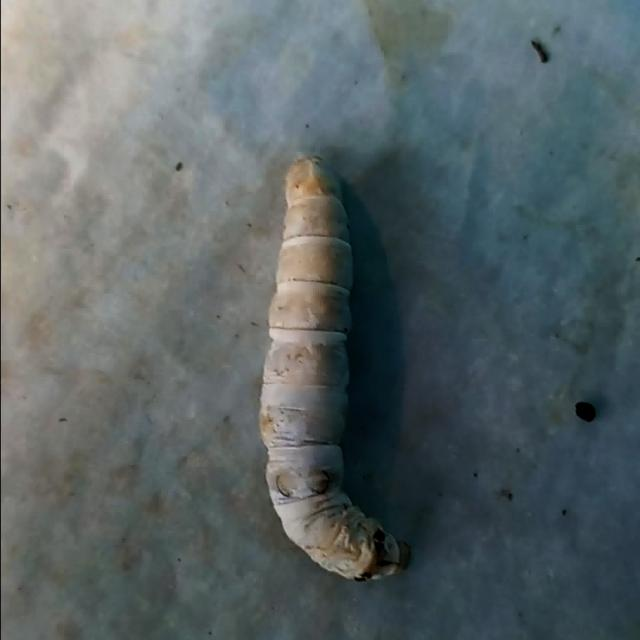Grasserie: (236, 135, 468, 608)
